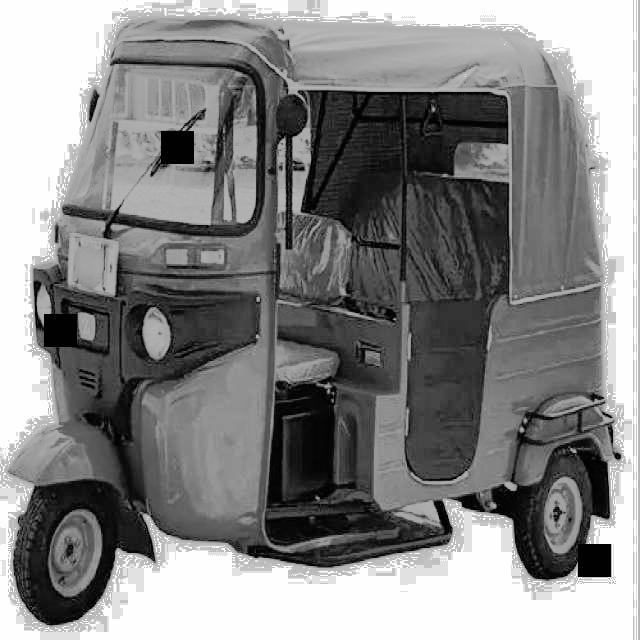Auto-Rickshaw: (32, 8, 616, 614)
